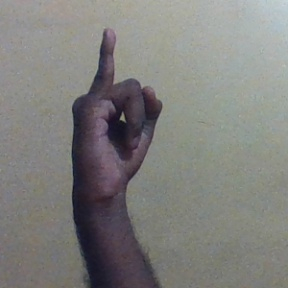I: (66, 25, 167, 201)
